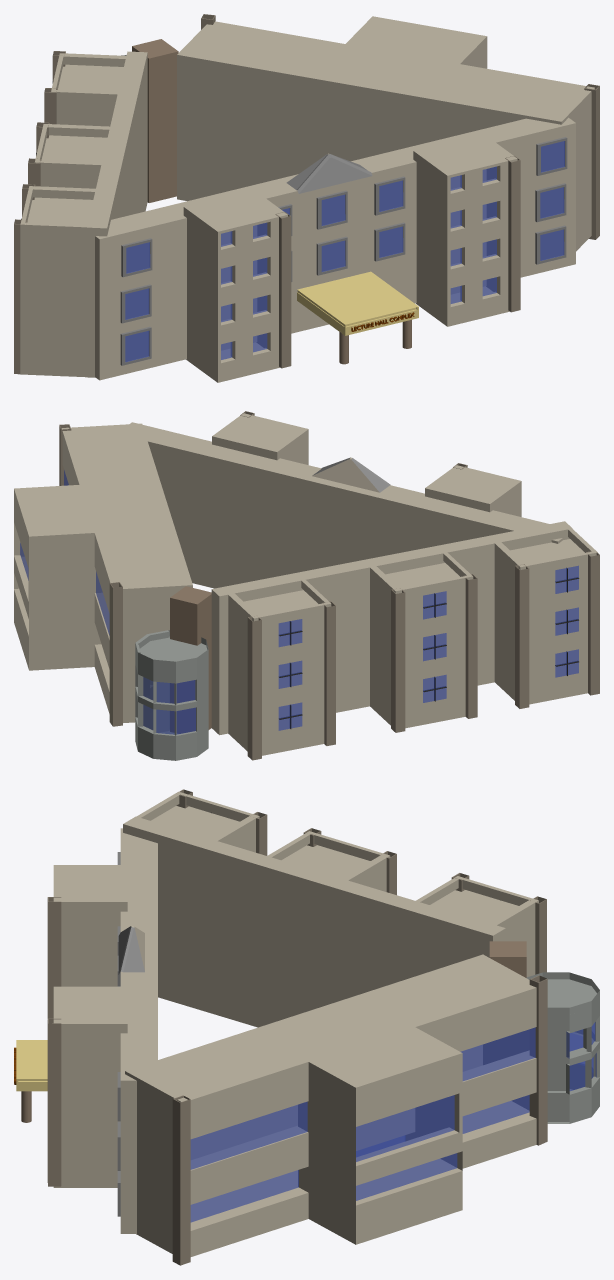
The model's file is LECTURE.glb.
The picture shows the model from 3 angles, top to bottom: view 1: azimuth 30°, elevation 25°; view 2: azimuth 150°, elevation 25°; view 3: azimuth 270°, elevation 25°; orthographic projection. The views are drawn at different scales.
Parts seen in each view (by area): view 1: Cube.039, Cube.042, Cube.002, Cube.041, Cube.003, Cube, Cube.001, Cube.040, Cube.005, Cube.004, Cube.044, Cube.011 (+10 smaller); view 2: Cube.039, Cube.042, Cube, Cube.005, Cube.004, Cube.003, Cylinder, Cube.001, Cube.002, Cube.041, Cube.010, Cube.006 (+14 smaller); view 3: Cube.039, Cube, Cube.041, Cube.042, Cube.002, Cylinder, Cube.005, Cube.004, Cube.003, Cube.040, Cube.044, Cube.001 (+1 smaller).
Boxes of the visible parts, x1=… form: Cube.039: x1=177, y1=14, x2=599, y2=251; Cube.042: x1=95, y1=117, x2=575, y2=380; Cube.002: x1=183, y1=190, x2=291, y2=382; Cube.041: x1=413, y1=134, x2=520, y2=326; Cube.003: x1=20, y1=186, x2=96, y2=377; Cube: x1=87, y1=51, x2=147, y2=377; Cube.001: x1=132, y1=39, x2=178, y2=202; Cube.040: x1=297, y1=271, x2=418, y2=335; Cube.005: x1=51, y1=53, x2=127, y2=126; Cube.004: x1=34, y1=124, x2=110, y2=188; Cube.044: x1=286, y1=153, x2=372, y2=193; Cube.011: x1=14, y1=219, x2=27, y2=374; Cube.039: x1=14, y1=423, x2=192, y2=726; Cube.042: x1=129, y1=422, x2=563, y2=588; Cube: x1=211, y1=521, x2=572, y2=735; Cube.005: x1=228, y1=579, x2=331, y2=755; Cube.004: x1=370, y1=552, x2=473, y2=728; Cube.003: x1=494, y1=528, x2=597, y2=704; Cylinder: x1=135, y1=630, x2=208, y2=760; Cube.001: x1=170, y1=586, x2=211, y2=733; Cube.002: x1=425, y1=463, x2=521, y2=516; Cube.041: x1=212, y1=411, x2=308, y2=464; Cube.010: x1=515, y1=564, x2=529, y2=708; Cube.006: x1=247, y1=616, x2=261, y2=760; Cube.039: x1=125, y1=954, x2=547, y2=1265; Cube: x1=123, y1=816, x2=505, y2=1027; Cube.041: x1=47, y1=986, x2=127, y2=1187; Cube.042: x1=120, y1=828, x2=157, y2=1233; Cube.002: x1=47, y1=865, x2=127, y2=1018; Cylinder: x1=526, y1=972, x2=599, y2=1123; Cube.005: x1=415, y1=876, x2=538, y2=976; Cube.004: x1=267, y1=831, x2=390, y2=891; Cube.003: x1=136, y1=791, x2=259, y2=852; Cube.040: x1=16, y1=1040, x2=47, y2=1091; Cube.044: x1=118, y1=926, x2=144, y2=974; Cube.001: x1=489, y1=941, x2=526, y2=977.
Bounding box in the file's own units: 39.52 × 10.95 × 31.58.
